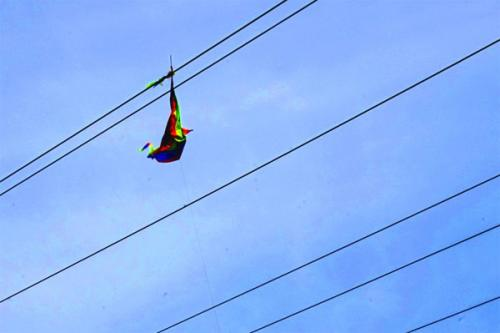kite: (141, 64, 191, 167)
